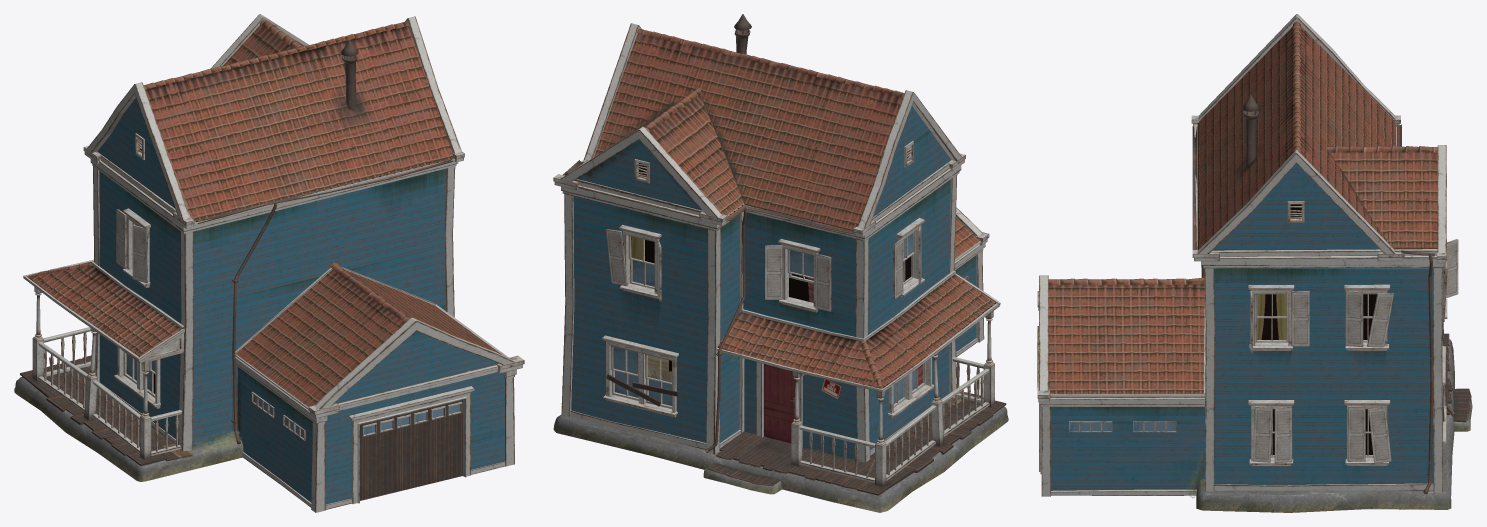
The model's file is house-shabby.lod0.glb.
3 views of the same model, side by side, from view 1: azimuth 30°, elevation 25°; view 2: azimuth 150°, elevation 25°; view 3: azimuth 270°, elevation 25° (orthographic).
Visible parts, largest first — view 1: Object_3, Object_2; view 2: Object_3, Object_2; view 3: Object_3, Object_2.
Boxes of the visible parts, left/top/right/bottom form: Object_3: left=14, top=14, right=524, bottom=512; Object_2: left=29, top=90, right=426, bottom=457; Object_3: left=553, top=14, right=1008, bottom=512; Object_2: left=576, top=87, right=947, bottom=488; Object_3: left=1037, top=14, right=1472, bottom=512; Object_2: left=1187, top=145, right=1386, bottom=497.
Size of the model in its own units: 10.09 by 10.45 by 11.
2 materials, 2 textured.
